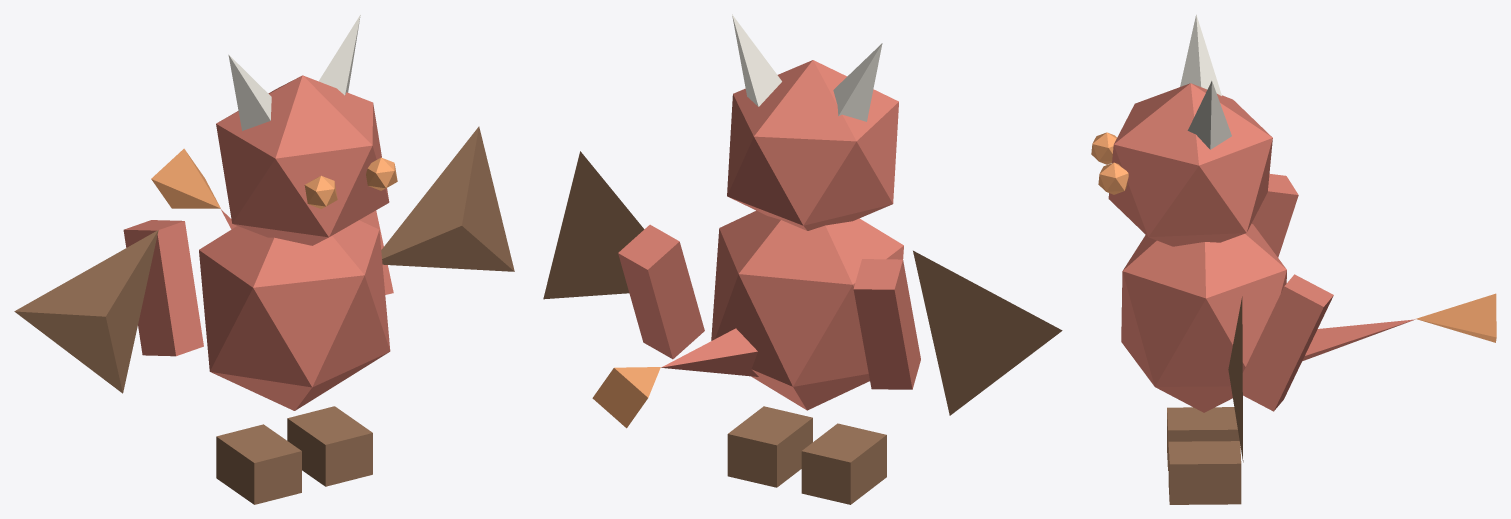
The model's file is npcpose_imp_idle_01.glb.
3 renders of one model, left to right at view 1: azimuth 30°, elevation 25°; view 2: azimuth 150°, elevation 25°; view 3: azimuth 270°, elevation 25°, orthographic. The views are drawn at different scales.
Parts seen in each view (by area): view 1: npcpose; view 2: npcpose; view 3: npcpose.
Boxes of the visible parts, left/top/right/bottom form: npcpose: left=14, top=15, right=514, bottom=504; npcpose: left=543, top=14, right=1062, bottom=504; npcpose: left=1091, top=14, right=1496, bottom=504.
Bounding box in the file's own units: 1.27 × 1.06 × 0.9051.
